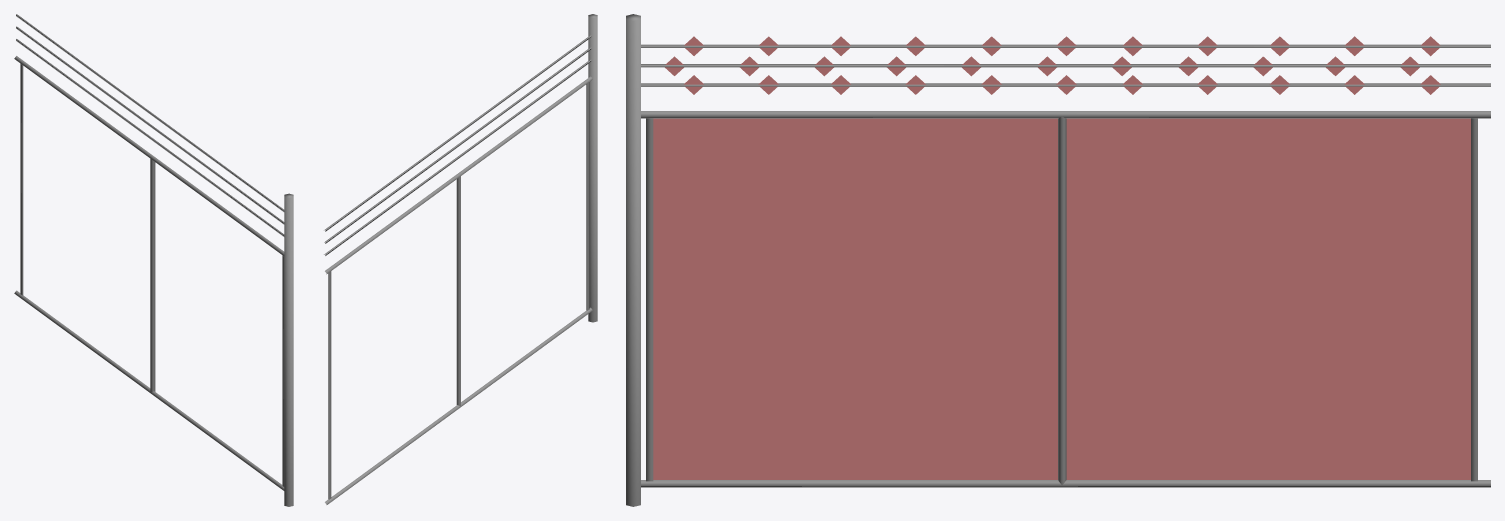
Rendered from SM_fence_104a.gltf.
The picture shows the model from 3 angles, left to right: view 1: azimuth 30°, elevation 25°; view 2: azimuth 150°, elevation 25°; view 3: azimuth 270°, elevation 25°; orthographic projection. The views are drawn at different scales.
Visible parts, largest first — view 1: SM_fence_104a; view 2: SM_fence_104a; view 3: SM_fence_104a.
Boxes of the visible parts, x1,y1,x2,y2 form: SM_fence_104a: (14, 14, 293, 506); SM_fence_104a: (324, 14, 597, 504); SM_fence_104a: (626, 14, 1490, 506).
Size of the model in its own units: 0.08 by 2.5 by 4.03.
